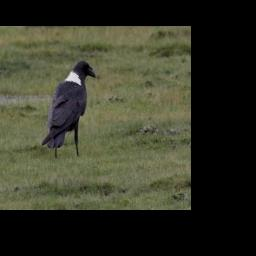Crow: (41, 59, 95, 157)
